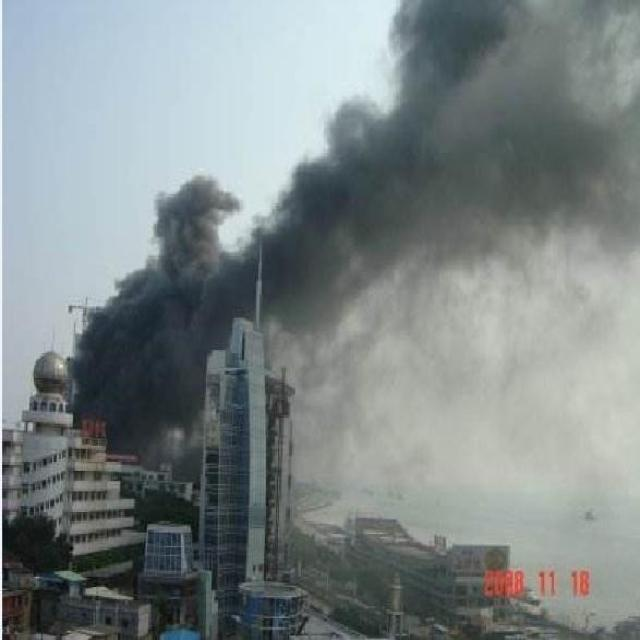Smoke: (63, 1, 640, 482)
